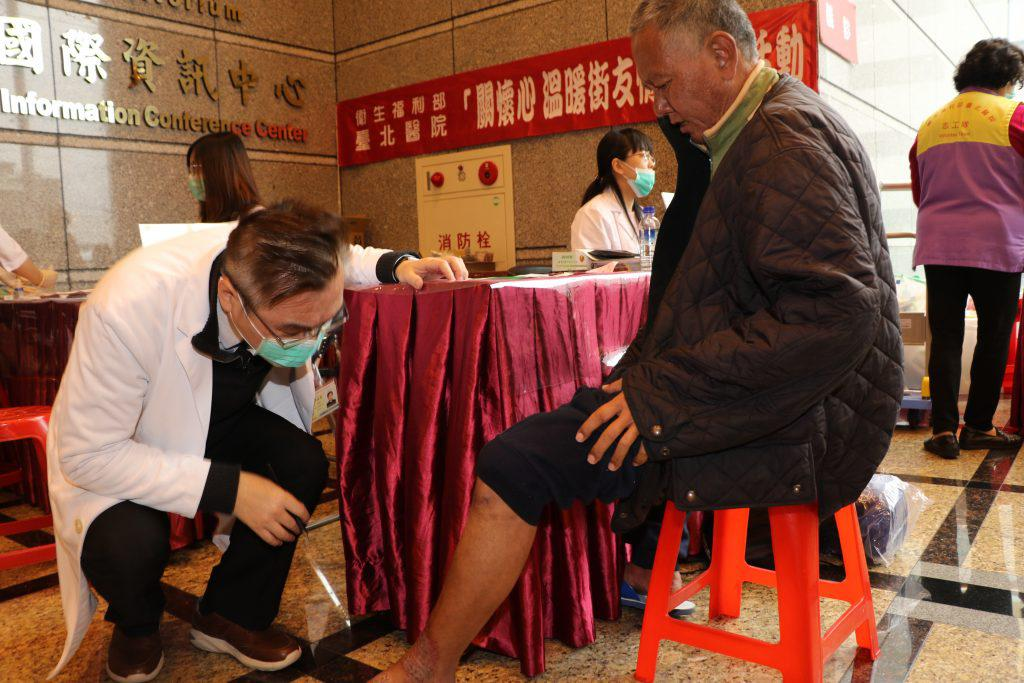mask: (241, 295, 345, 370), (622, 150, 656, 197), (186, 163, 213, 204)
none: (635, 66, 726, 144)
